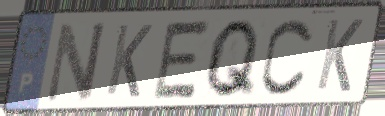C: (258, 16, 316, 98)
E: (149, 17, 214, 102)
K: (313, 17, 366, 95), (103, 22, 155, 101)
N: (42, 19, 109, 106)
Q: (201, 16, 262, 101)
